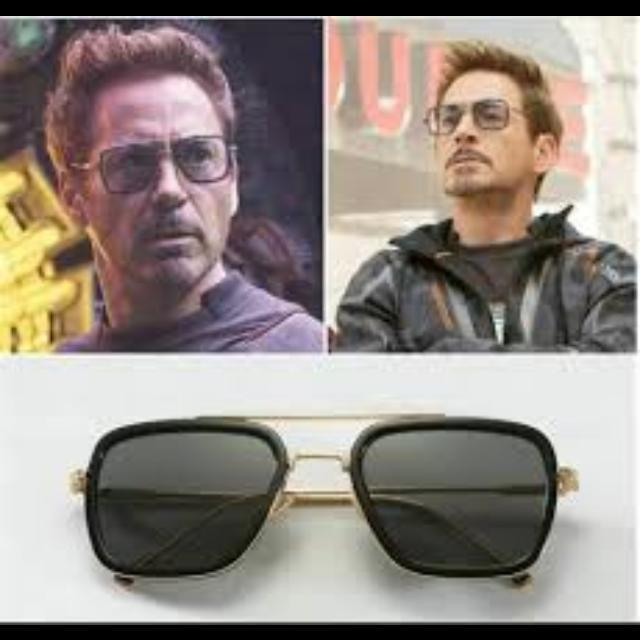sunglasses: (70, 412, 580, 594), (49, 134, 250, 196), (423, 98, 549, 136)
